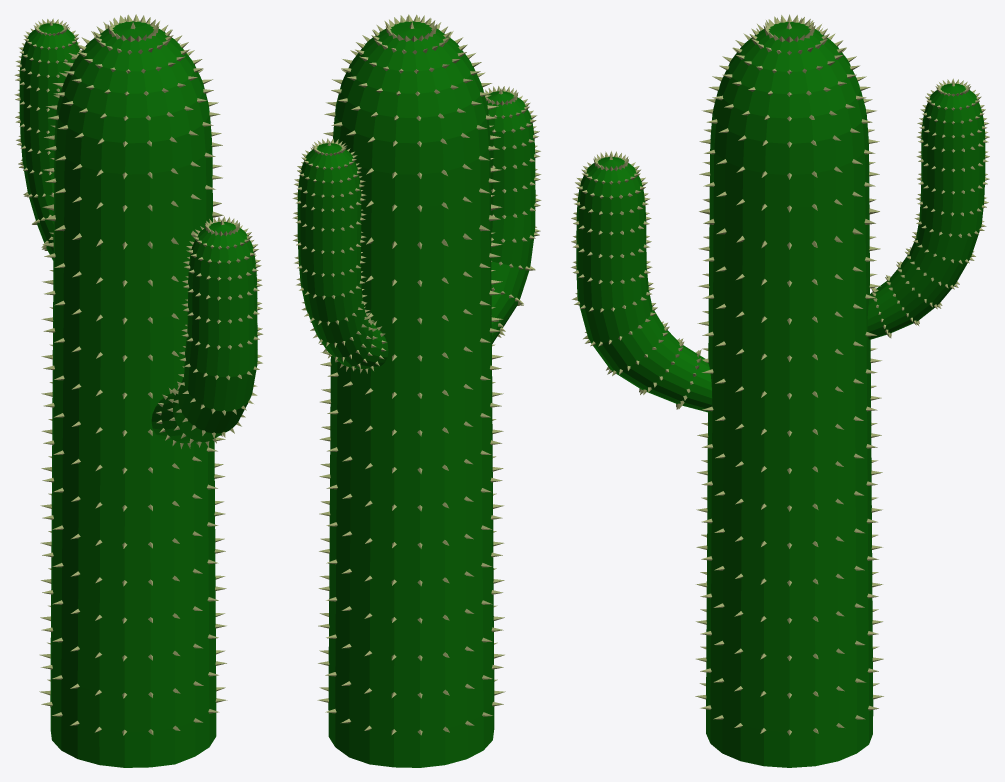
File: cactus var 1.fbx
3 renders of one model, left to right at view 1: azimuth 30°, elevation 25°; view 2: azimuth 150°, elevation 25°; view 3: azimuth 270°, elevation 25°, orthographic.
Visible parts, largest first — view 1: cactus 1; view 2: cactus 1; view 3: cactus 1.
Part boxes in pixels (left/top/right/bottom): cactus 1: left=14, top=14, right=263, bottom=767; cactus 1: left=292, top=14, right=541, bottom=767; cactus 1: left=571, top=14, right=989, bottom=767.
Bounding box in the file's own units: 231 × 956 × 511.
